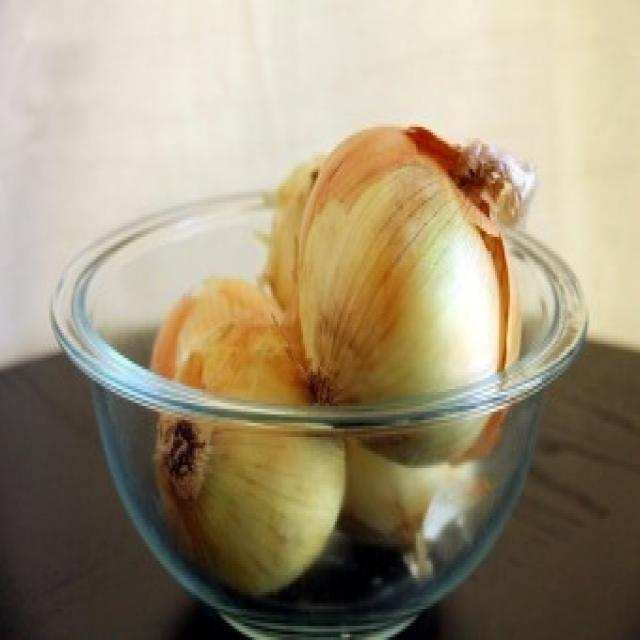onion: (290, 112, 558, 454), (162, 327, 378, 585)
